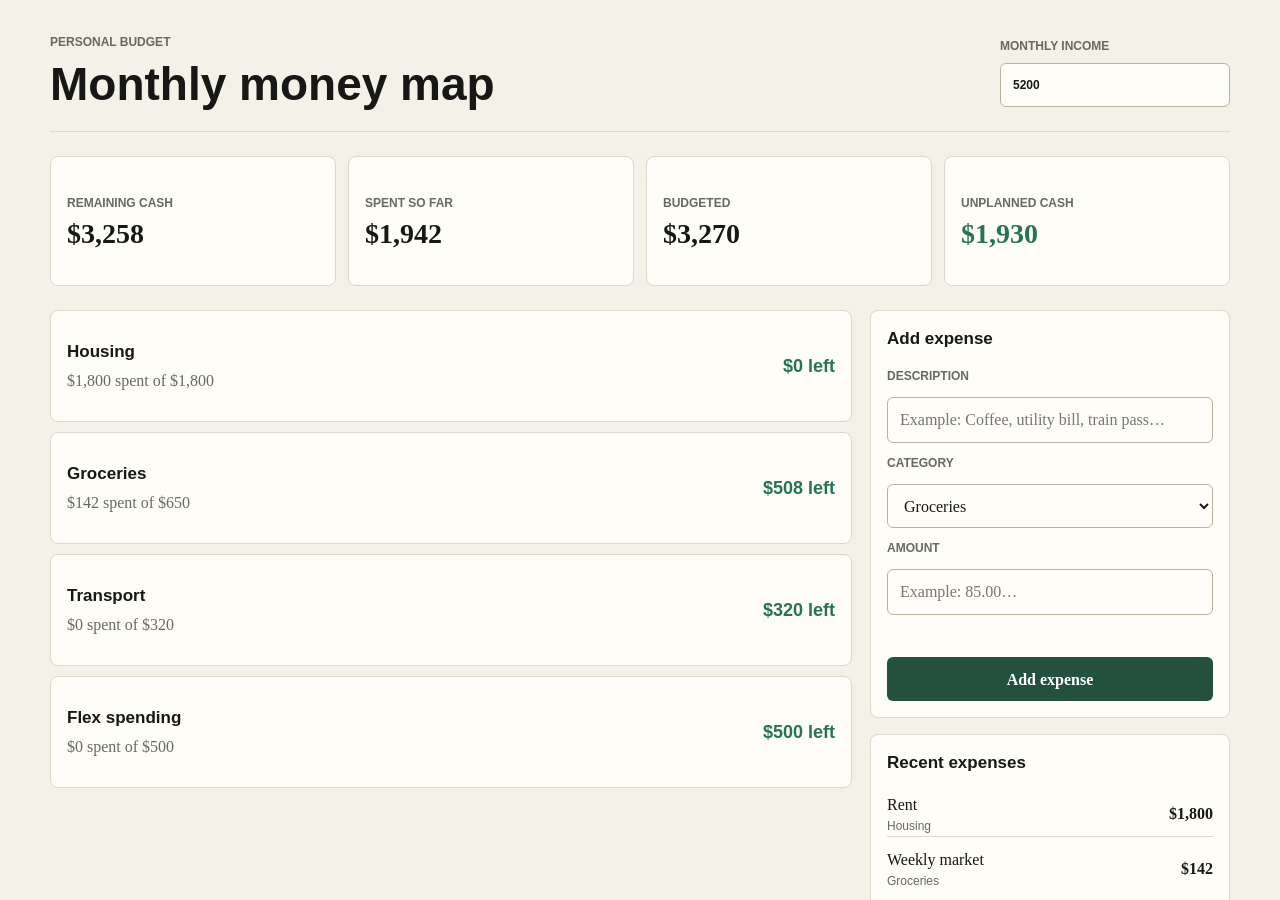
Scenario: budget tracker › does not add invalid expenses
The image size is (1280, 900).
Select "Groceries" in the dropdown labelled "Category" at (1050, 506), box left=887, top=484, right=1213, bottom=528
Type "45" into the number field labelled "Amount" at (1050, 592), box left=887, top=569, right=1213, bottom=615
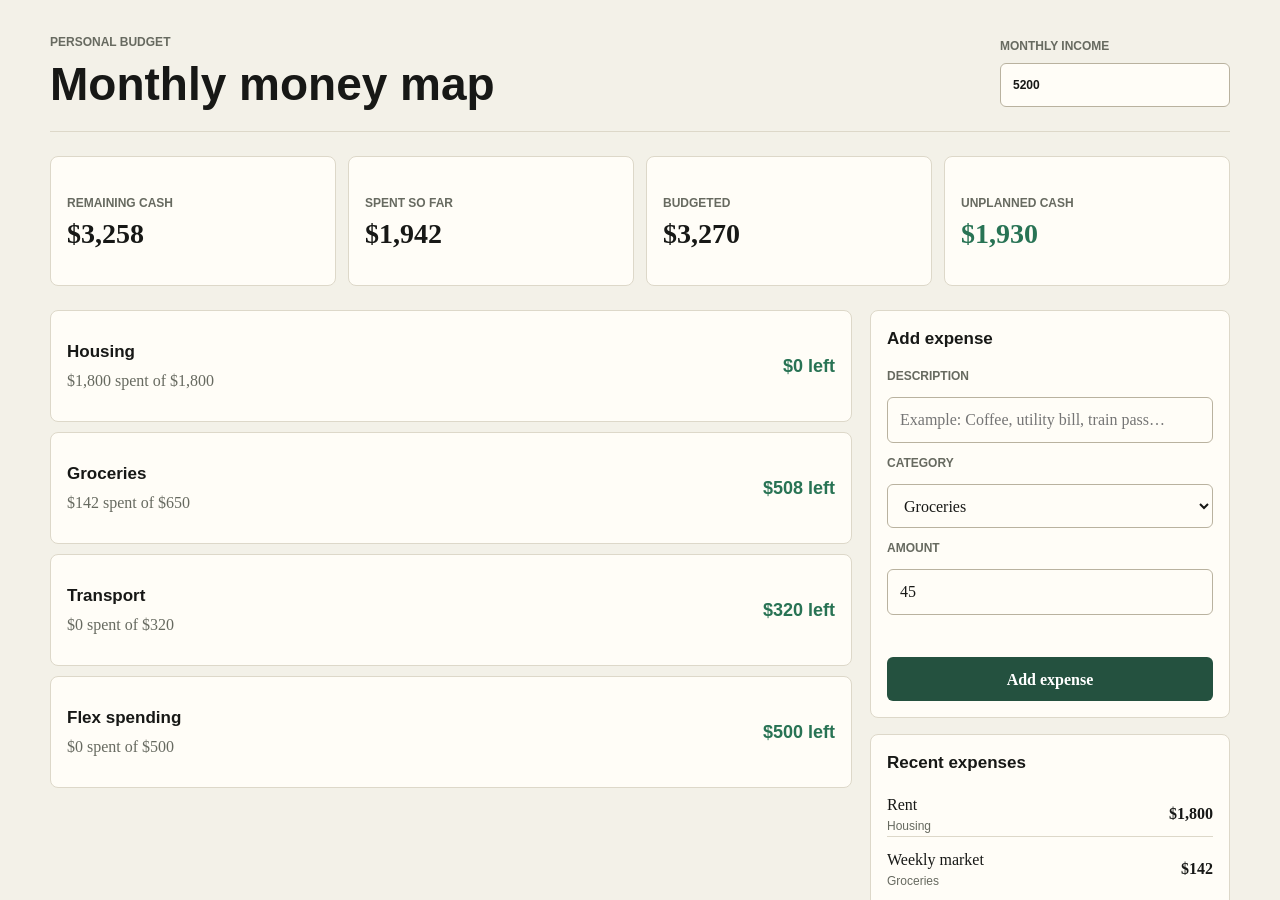
Click the button "Add expense" at (1050, 679), box left=887, top=657, right=1213, bottom=701
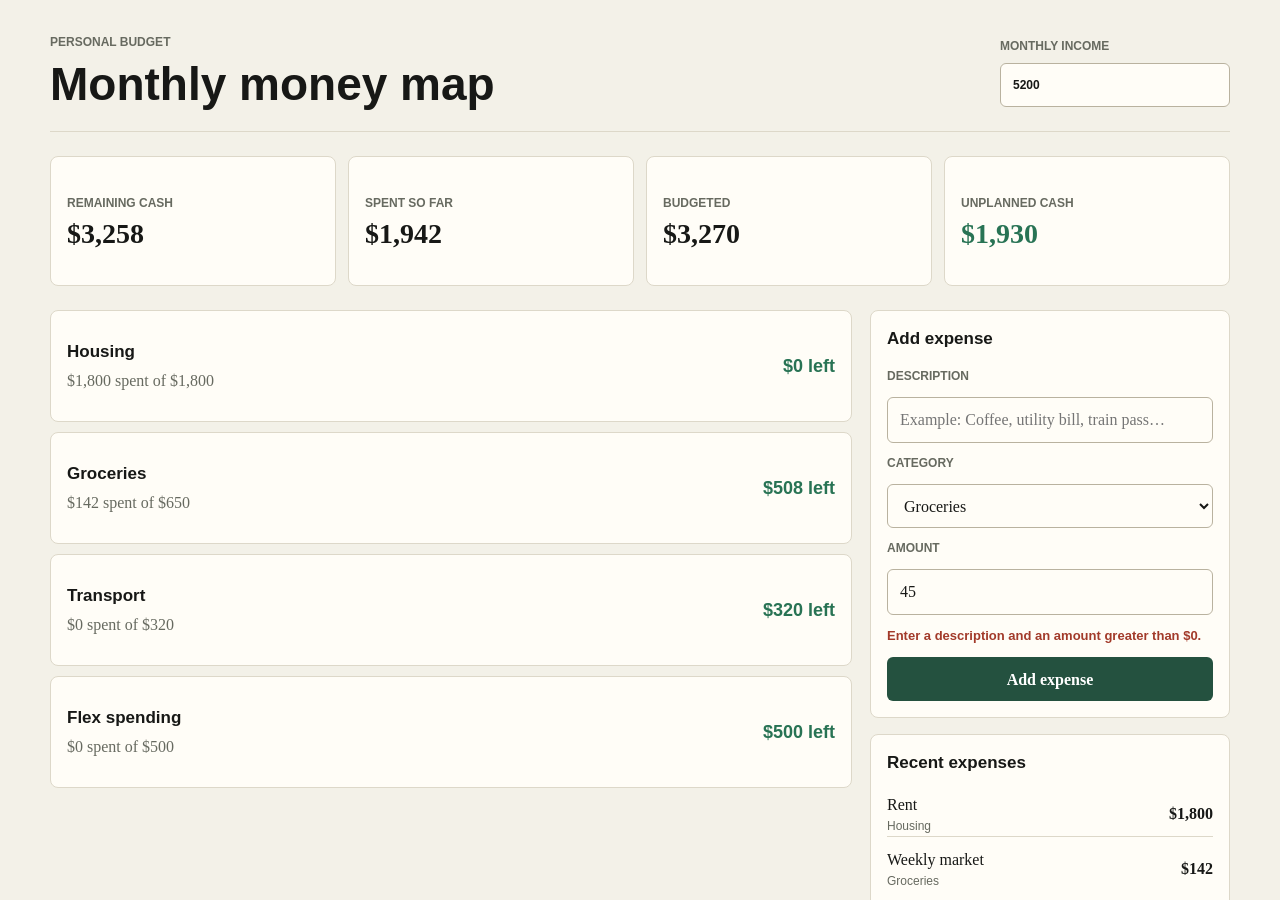
Expected: the text named "Remaining cash $3,258" is shown, left=67, top=218, right=144, bottom=249
Result: the text "Enter a description and an amount greater than $0." is shown at left=887, top=627, right=1213, bottom=645
